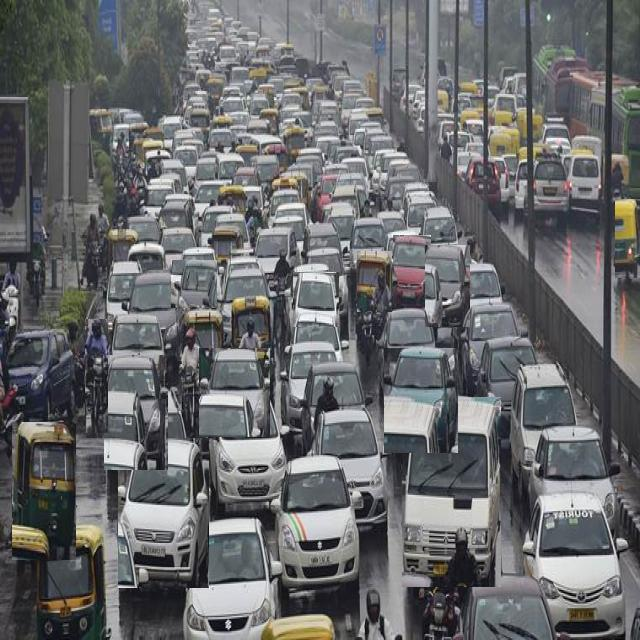autorickshaw: (12, 422, 75, 560), (36, 524, 110, 638), (231, 295, 275, 392), (357, 251, 391, 312), (615, 200, 640, 278)
car: (402, 398, 500, 587), (522, 492, 626, 637), (118, 439, 209, 588), (271, 456, 359, 595), (180, 517, 280, 638), (530, 425, 620, 532), (312, 409, 390, 529), (210, 393, 286, 511), (510, 364, 576, 497), (384, 349, 458, 453), (104, 355, 168, 470), (6, 328, 75, 420), (199, 349, 270, 437), (476, 337, 536, 437), (459, 301, 518, 395), (378, 308, 435, 401), (128, 270, 184, 363), (280, 342, 335, 428), (452, 263, 502, 350), (425, 245, 470, 327), (104, 261, 140, 341), (393, 236, 430, 305), (293, 272, 338, 327), (171, 261, 216, 308), (534, 160, 569, 219), (568, 151, 601, 210)
motorcycle: (85, 319, 108, 433)
